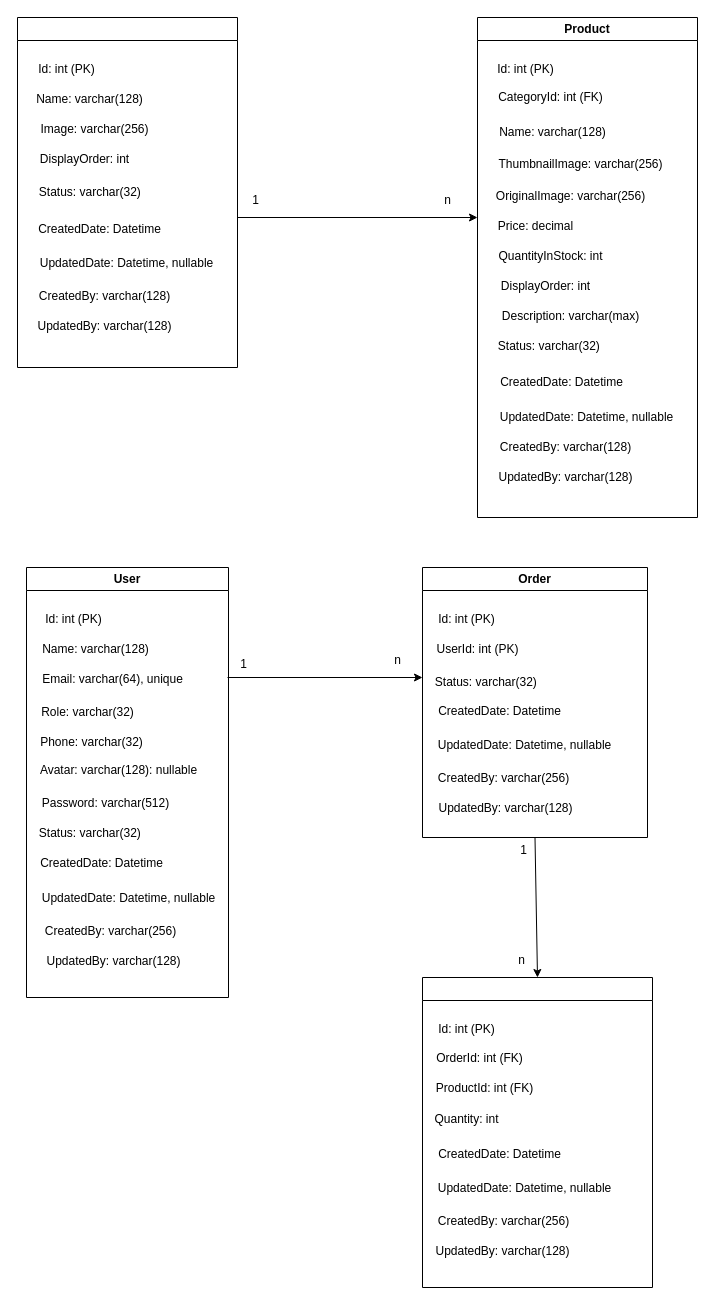
The diagram is 715 pixels wide and 1305 high, and some of its shapes have lost their labels. The shapes that lost their labels are listed below. From the top down, each one's box as (x1, y1, x2, y2) in pixels, then its label:
(16, 16, 238, 368): Category
(422, 976, 652, 1288): OrderDetail
